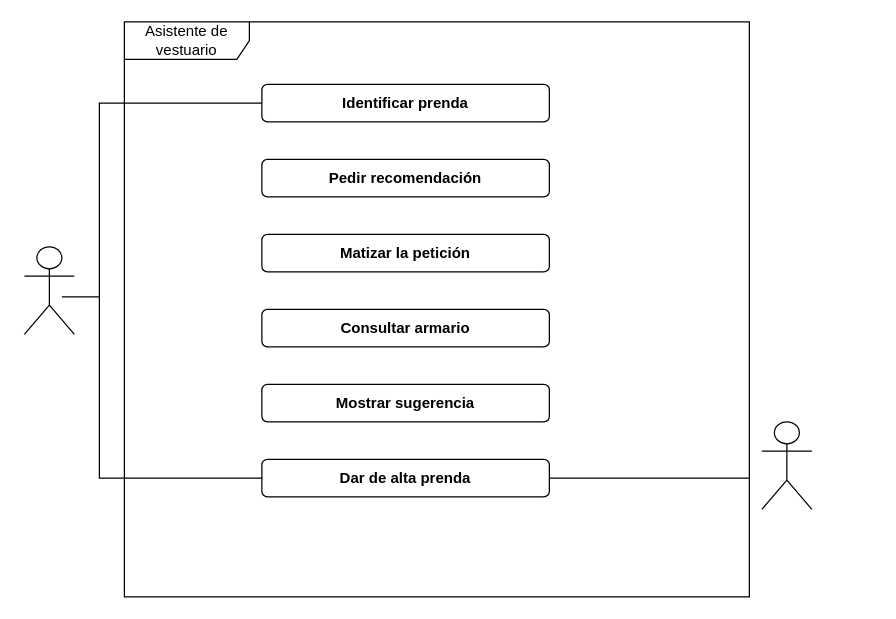
This 896x619 diagram has some shape labels left out. Here are the shapes that lost their labels. From the top down, the centre of each, then its label:
At point 48,290: "Usuario".
At point 786,465: "Sistema de catalogación".
